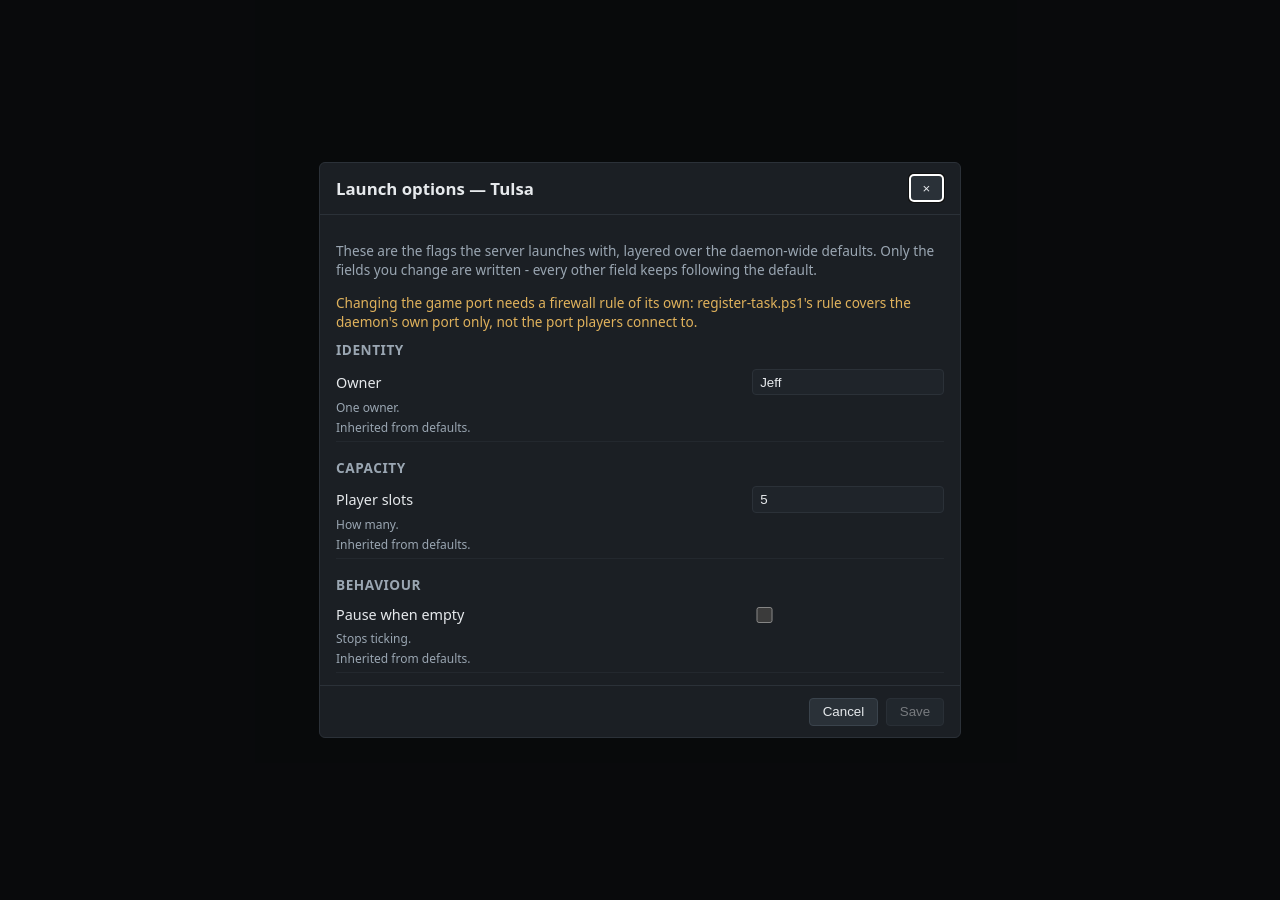
Test case: LaunchOptionsDialog › names what it actually wrote in the post-save confirmation
The width and height of the screenshot is (1280, 900).
Replace the text in the number field labelled "Player slots" with "20". click: (848, 500)
box: [752,486,944,513]
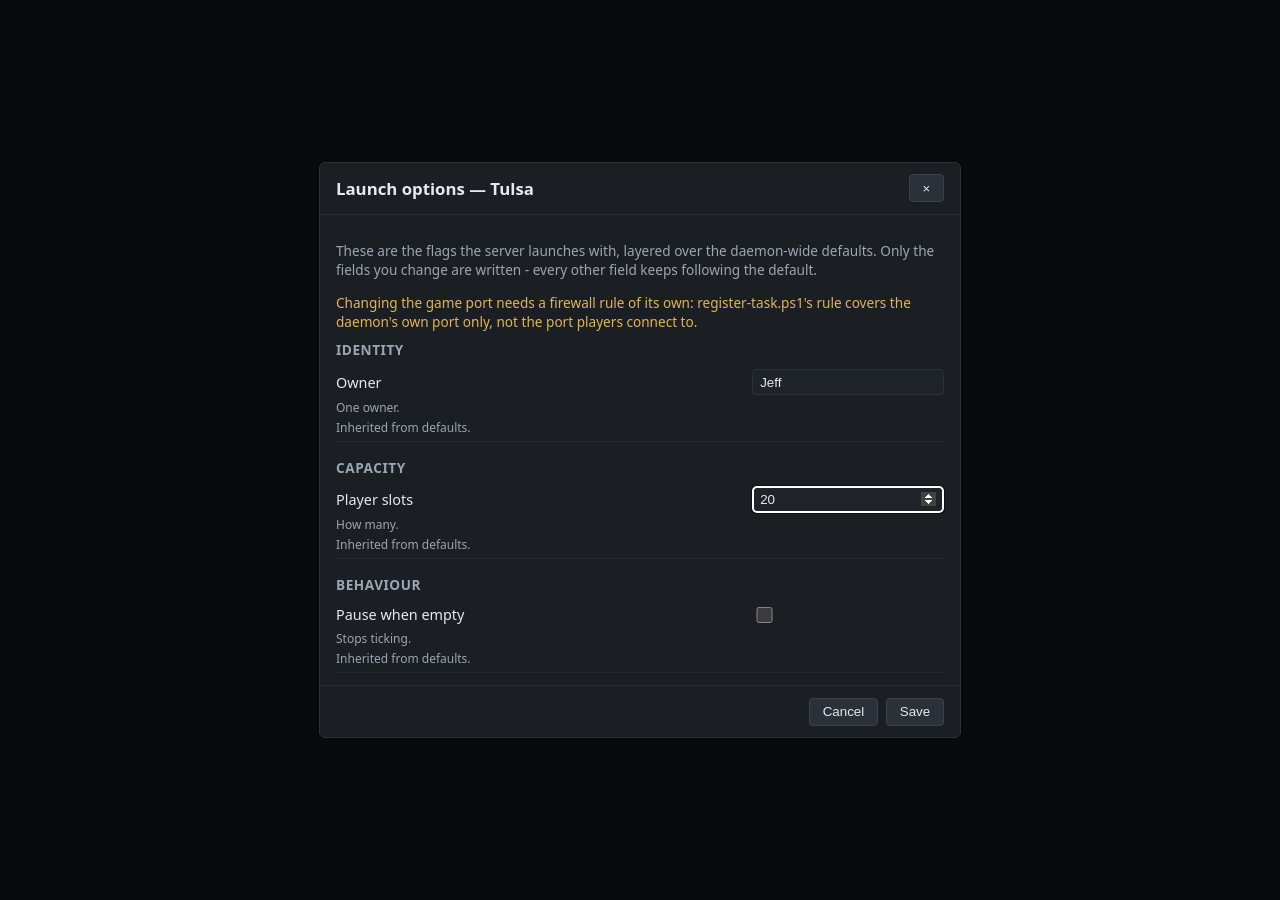
Click the button "Save". click: click(915, 712)
box: [886,698,944,726]
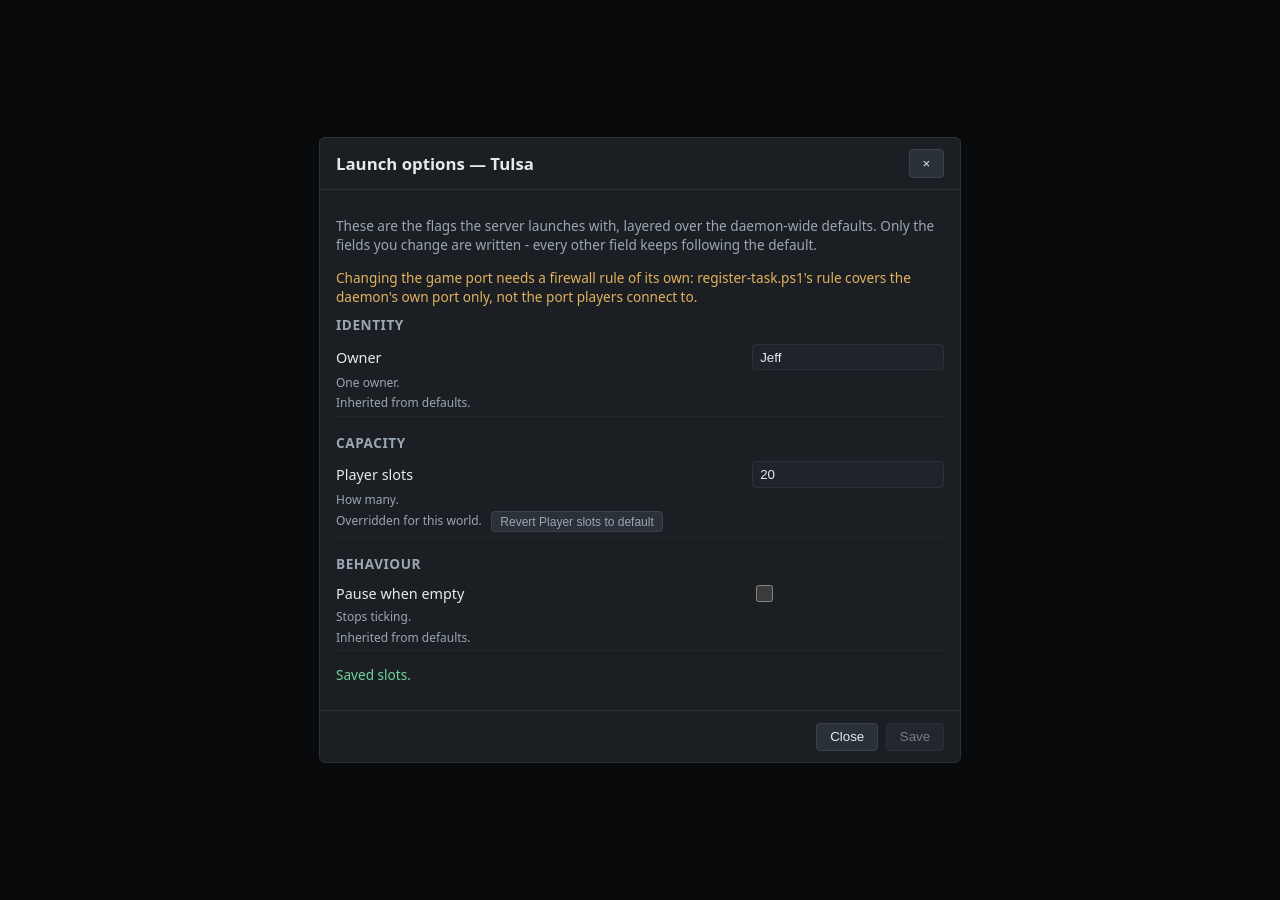
Expected: the text "Saved slots." is shown, [336,665,411,684]
